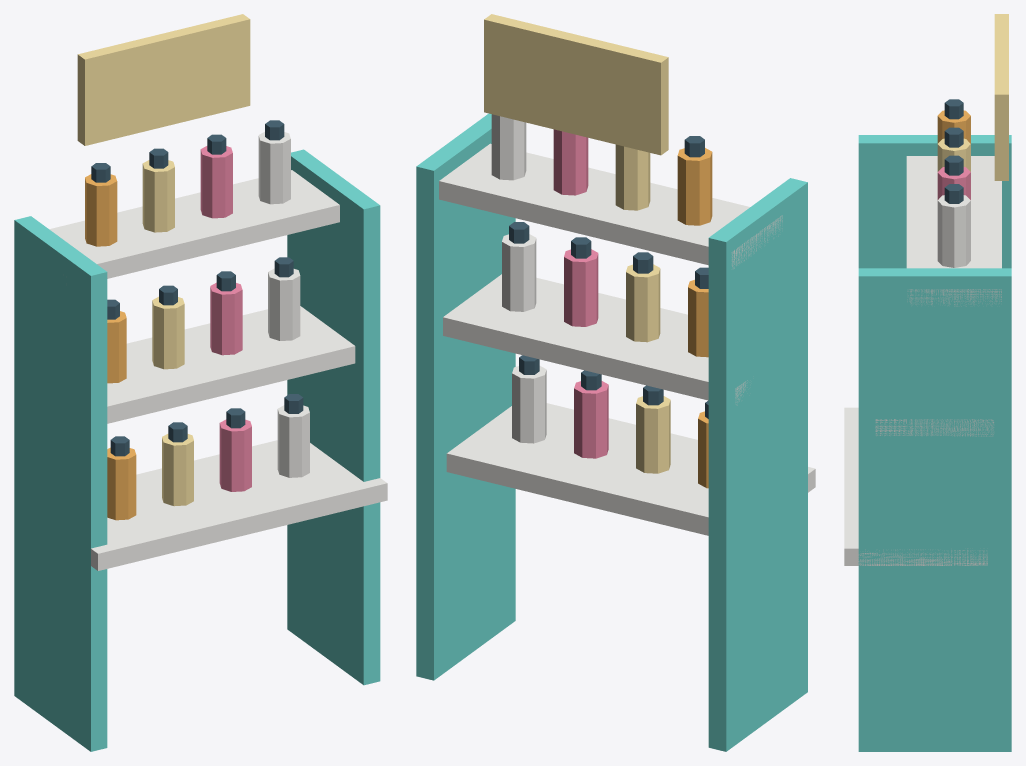
The model's file is SunscreenStand.fbx.
3 renders of one model, left to right at view 1: azimuth 30°, elevation 25°; view 2: azimuth 150°, elevation 25°; view 3: azimuth 270°, elevation 25°, orthographic. The views are drawn at different scales.
Visible parts, largest first — view 1: SunscreenStand; view 2: SunscreenStand; view 3: SunscreenStand.
Part boxes in pixels (<box>): SunscreenStand: <box>14,14,387,751</box>; SunscreenStand: <box>416,14,815,751</box>; SunscreenStand: <box>844,14,1011,751</box>.
Size of the model in its own units: 0.7 by 1.45 by 0.35.
